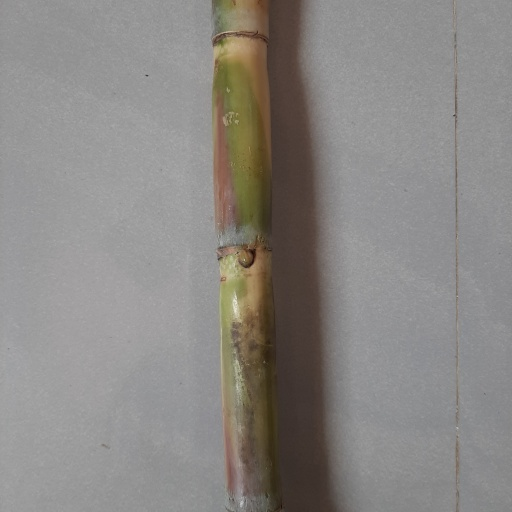Bud: (236, 249, 257, 270)
